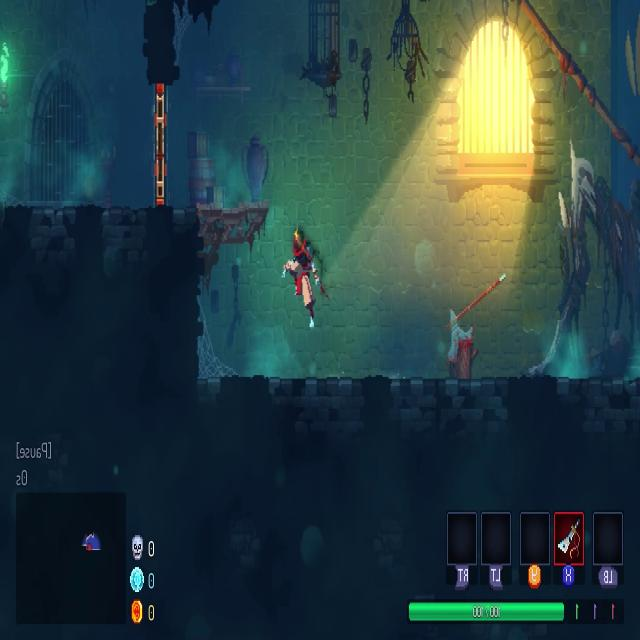agents: (282, 231, 318, 329)
